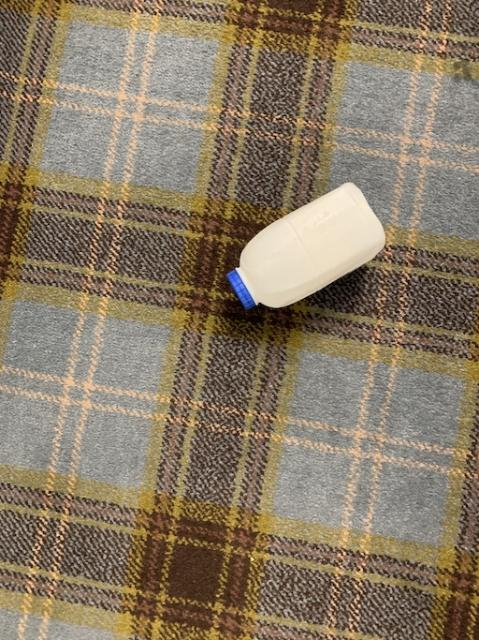plastic: (226, 182, 384, 307)
